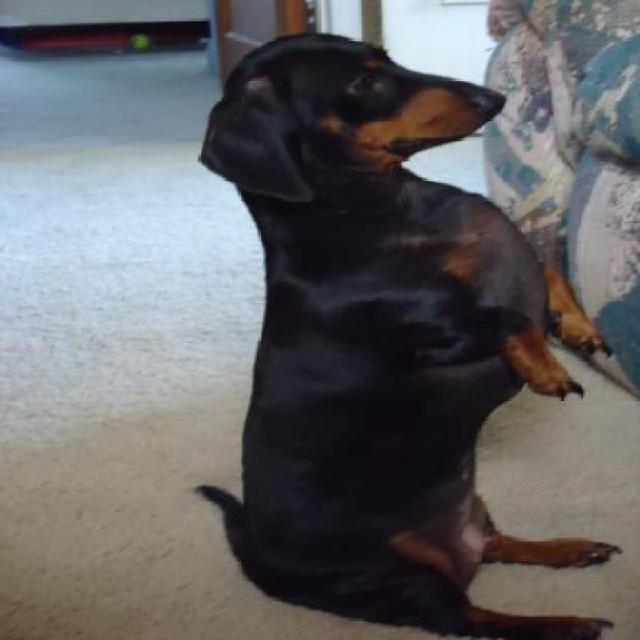Dog: (188, 32, 629, 638)
